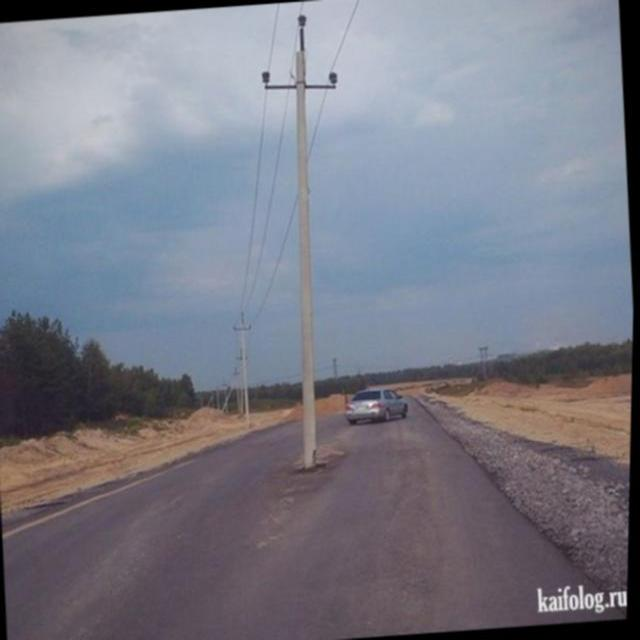pole: (292, 185, 330, 476)
